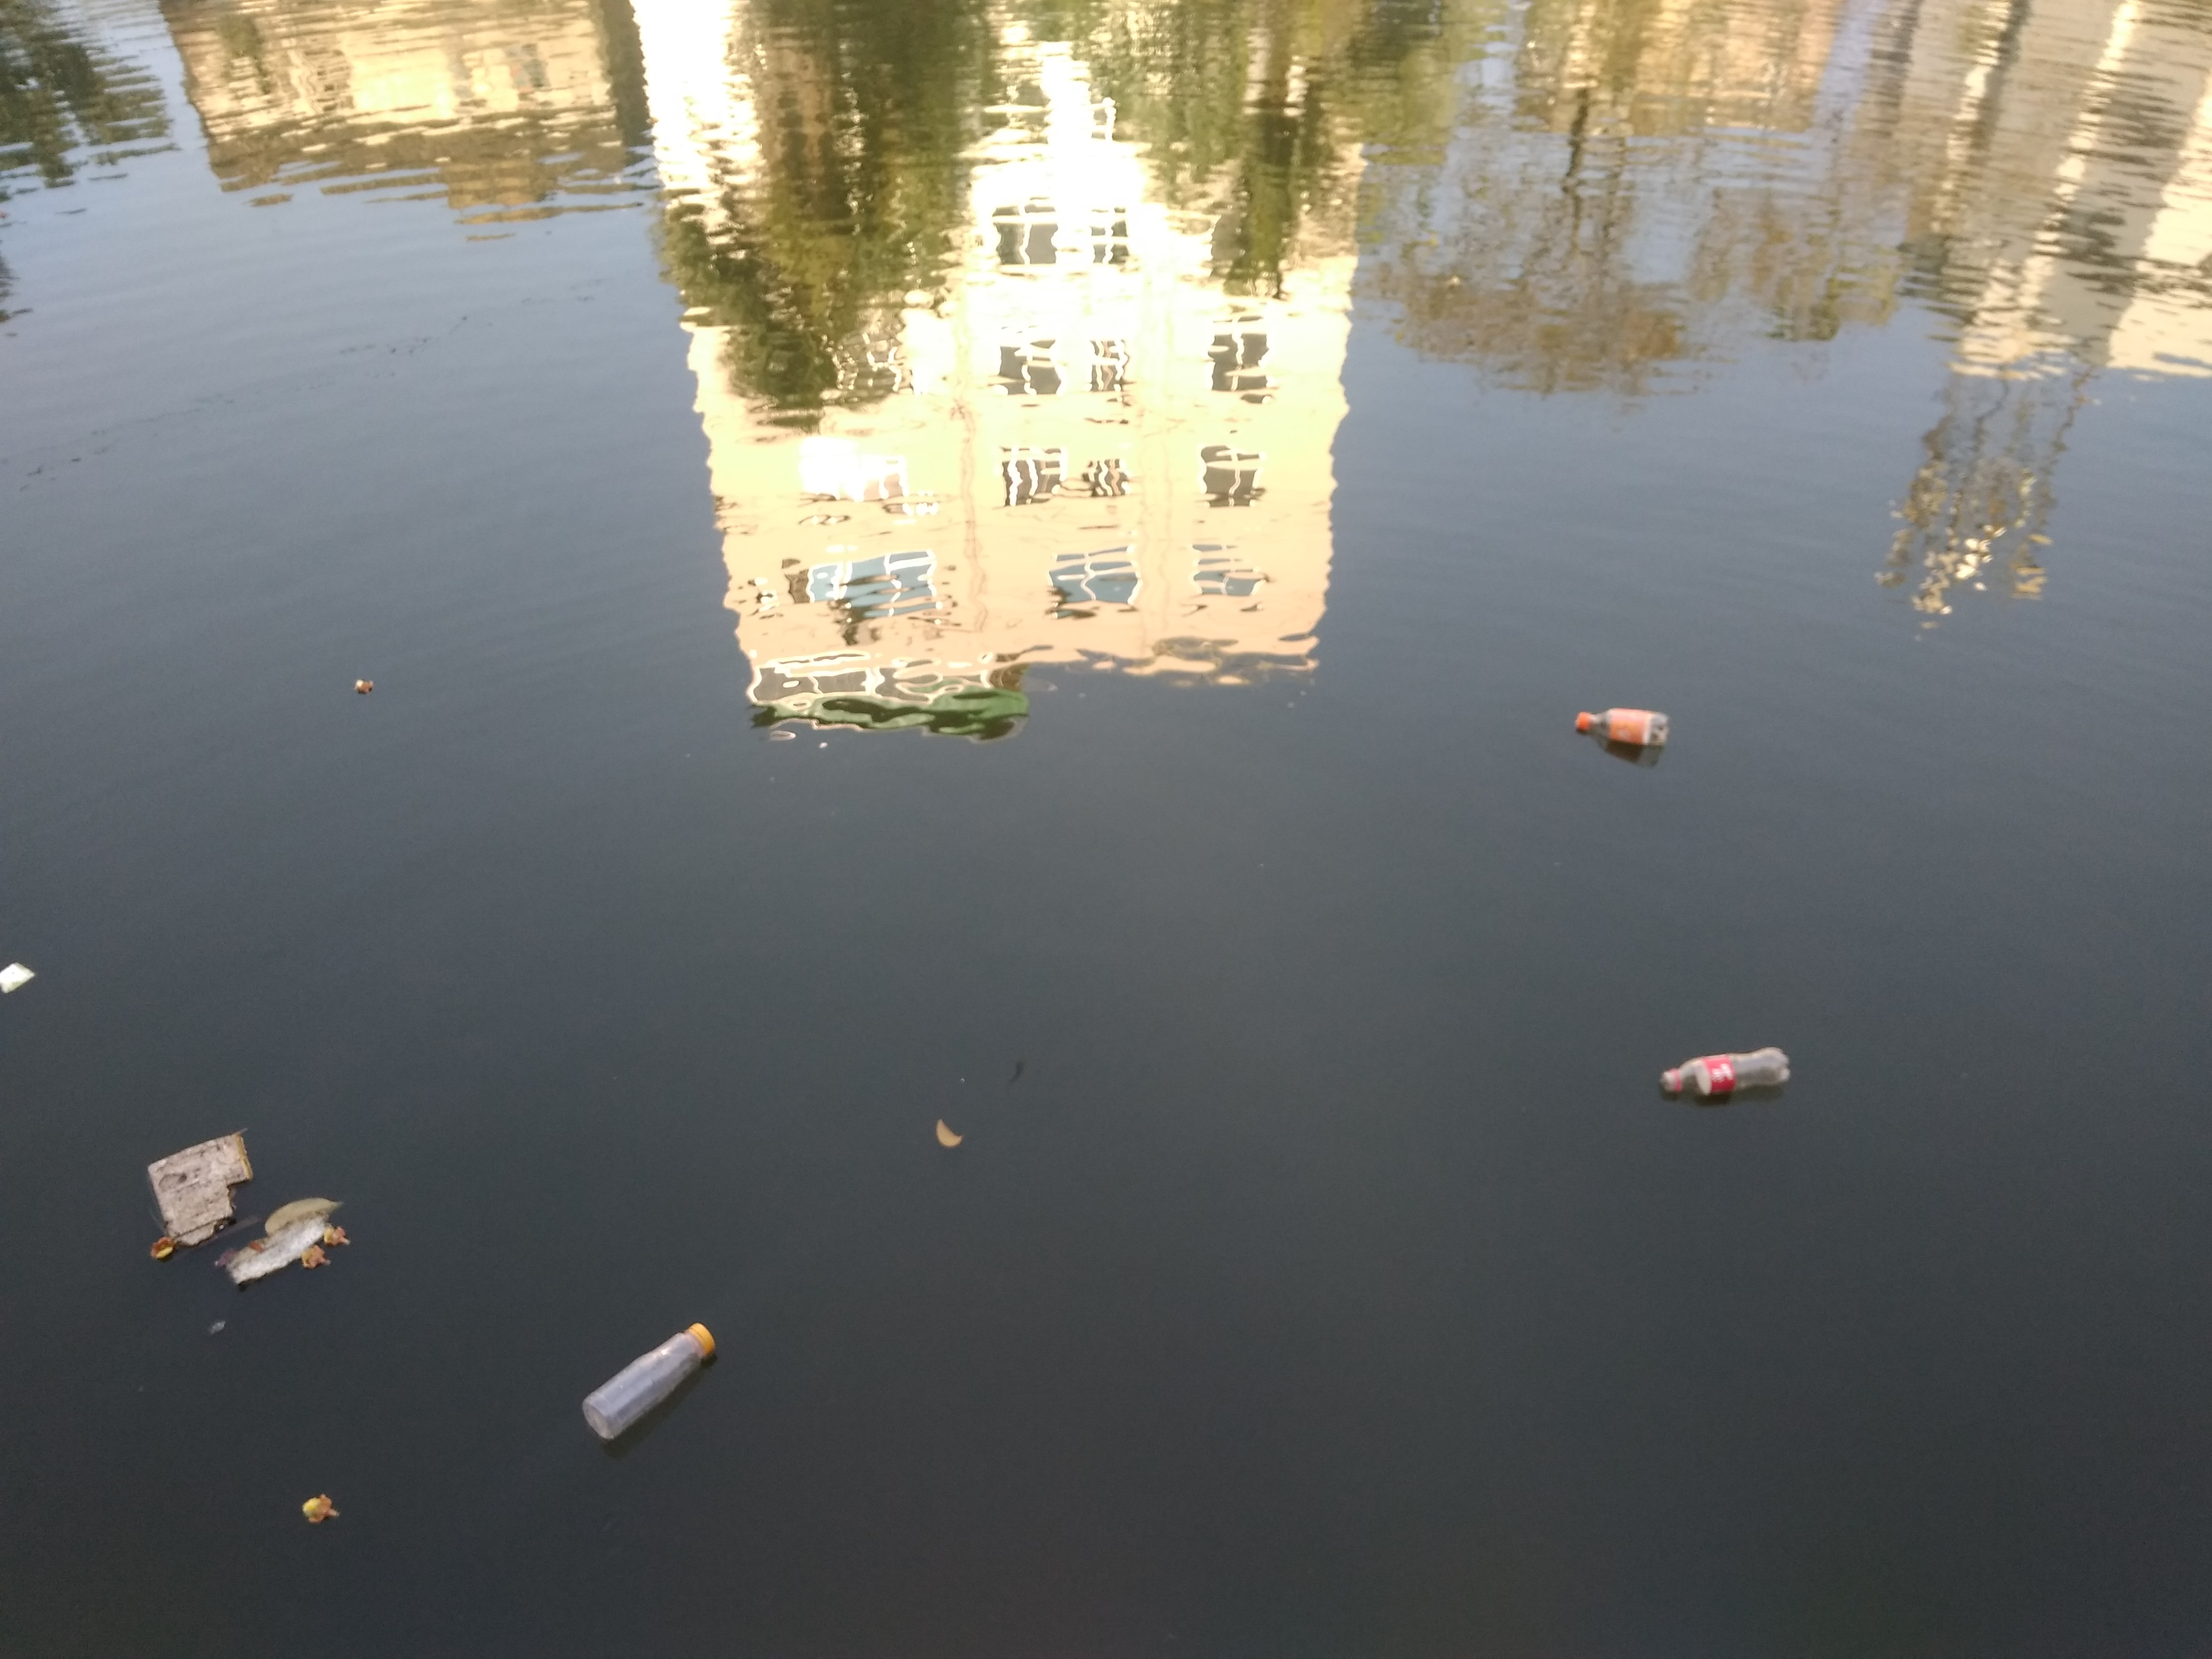Plastic Bottle: (582, 1323, 716, 1439), (1660, 1046, 1789, 1096), (1576, 708, 1669, 746)
